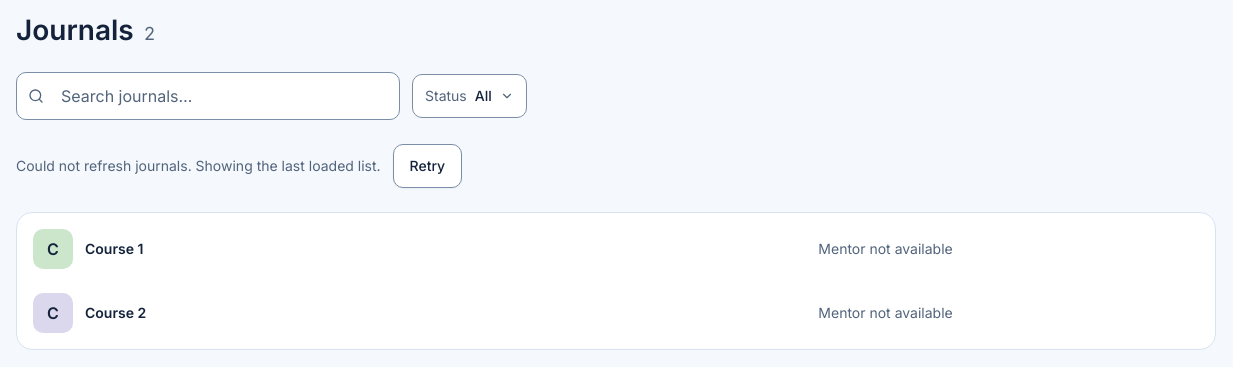
Test case: Journals hub › keeps loaded rows and shows a local refresh failure when a background refetch fails
Check: the text "Could not refresh journals. Showing the last loaded list." is shown, box 16,156 -> 381,176
Check: the text "Course 1" is shown, box 85,239 -> 143,259
Click the button "Retry" at {"x": 427, "y": 166}, box 393,144 -> 462,188
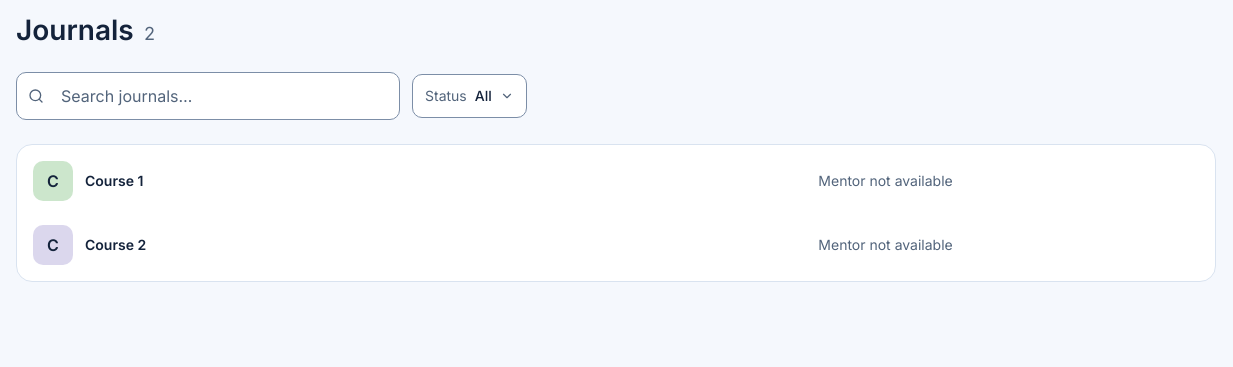
Check: the message "Could not refresh journals. Showing the last loaded list. Retry" is gone
